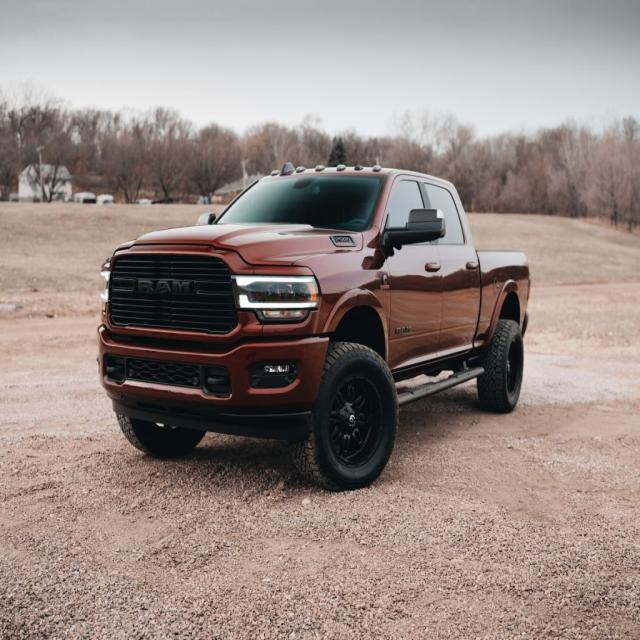CMT: (94, 166, 540, 492)
